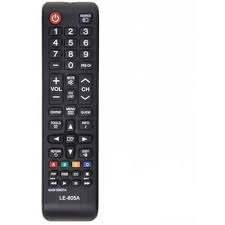remote control: (34, 1, 110, 225)
